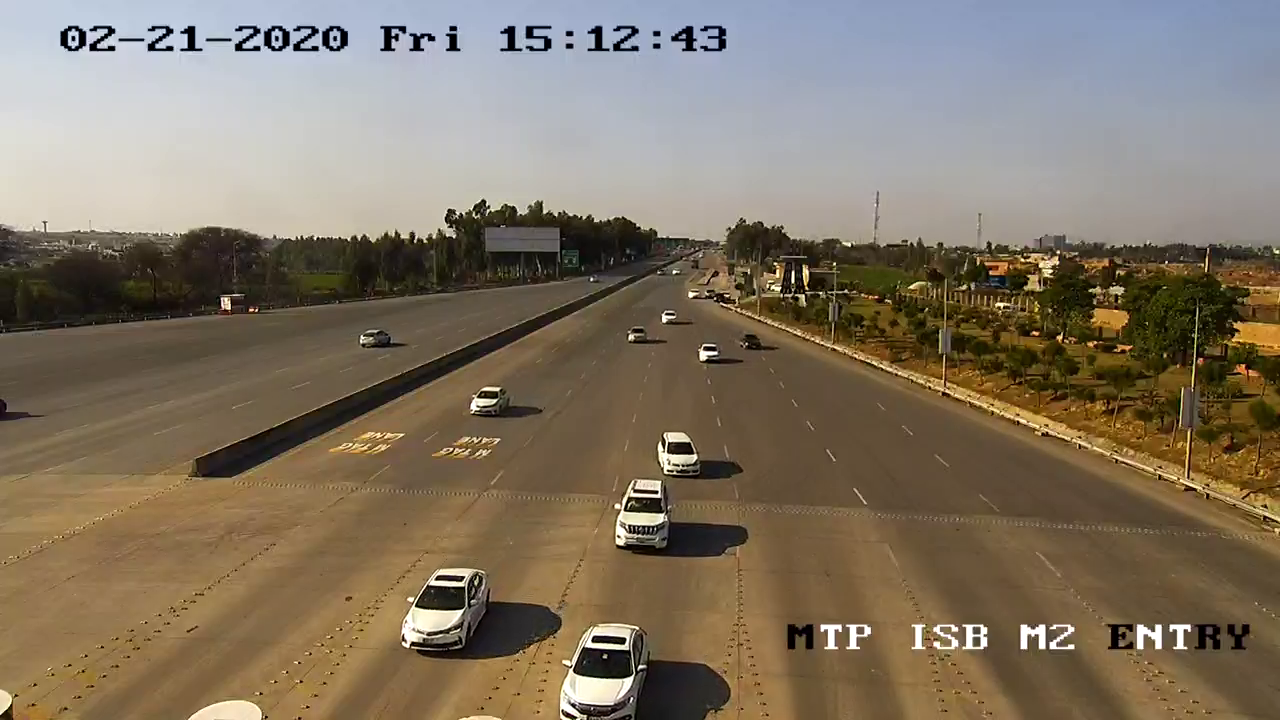f1: (394, 556, 497, 664), (557, 615, 662, 720), (609, 476, 682, 553), (653, 428, 706, 482), (467, 377, 512, 427)
